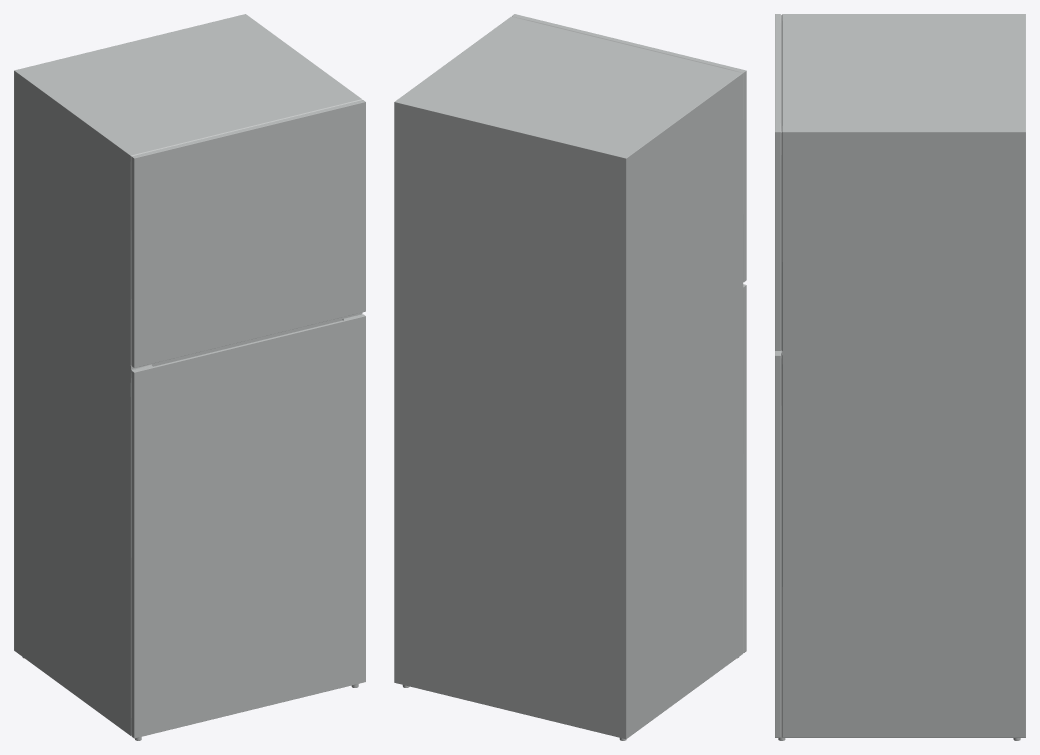
The model's file is Nevera2.glb.
3 renders of one model, left to right at view 1: azimuth 30°, elevation 25°; view 2: azimuth 150°, elevation 25°; view 3: azimuth 270°, elevation 25°, orthographic. The views are drawn at different scales.
Visible parts, largest first — view 1: Nevera2; view 2: Nevera2; view 3: Nevera2.
Boxes of the visible parts, box(x1,y1,x2,y2) form: Nevera2: box(14, 14, 365, 740); Nevera2: box(394, 14, 746, 740); Nevera2: box(775, 14, 1025, 740).
Bounding box in the file's own units: 67.58 × 163 × 60.7.
Materials: 1 (1 with a texture image).
